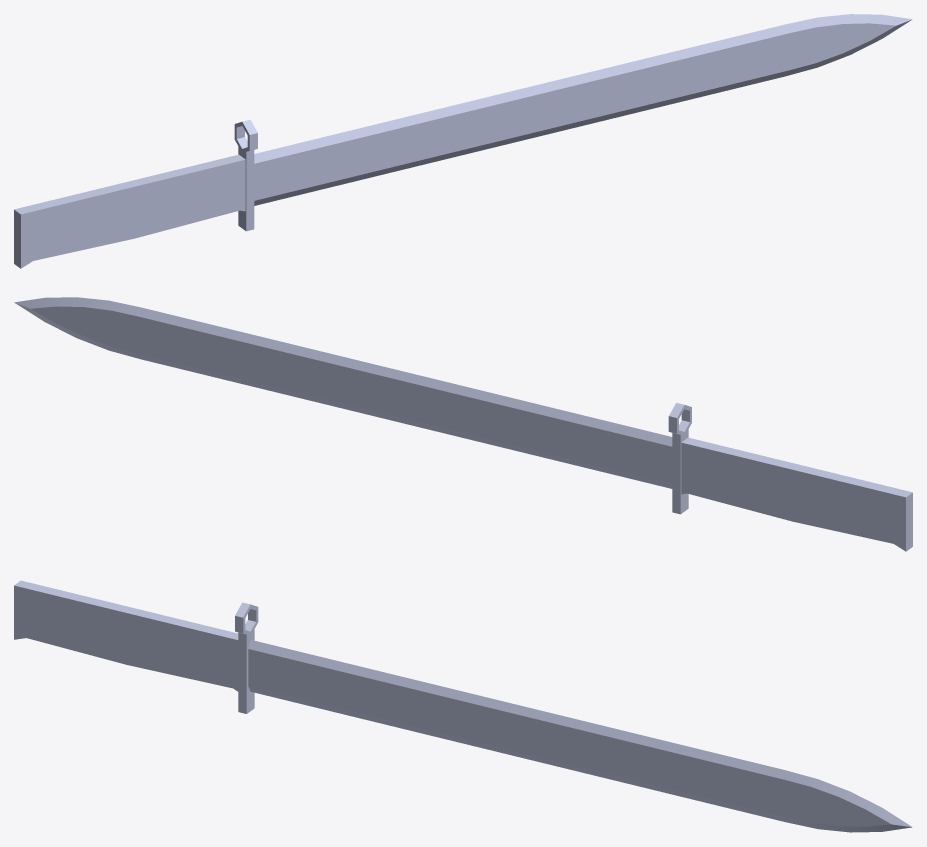
The model's file is Bayonet.FBX.
The picture shows the model from 3 angles, top to bottom: view 1: azimuth 30°, elevation 25°; view 2: azimuth 150°, elevation 25°; view 3: azimuth 330°, elevation 25°; orthographic projection.
Parts seen in each view (by area): view 1: Boss-Extrude3; view 2: Boss-Extrude3; view 3: Boss-Extrude3.
Boxes of the visible parts, x1,y1,x2,y2 form: Boss-Extrude3: [14, 14, 912, 268]; Boss-Extrude3: [14, 297, 912, 551]; Boss-Extrude3: [14, 580, 912, 832].
Bounding box in the file's own units: 13.52 × 1.54 × 0.3925.
